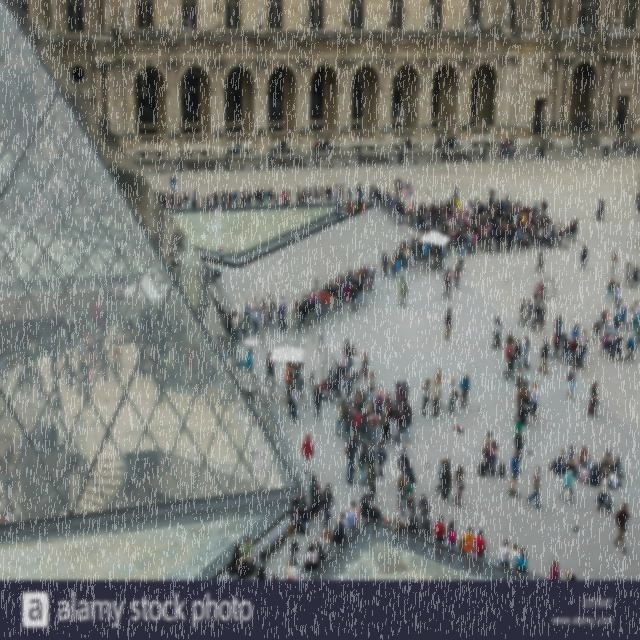pessoa: (0, 159, 89, 226), (431, 205, 533, 232), (89, 188, 130, 220), (234, 384, 266, 418), (614, 502, 630, 555), (398, 474, 416, 518), (290, 498, 310, 535), (526, 463, 542, 509), (320, 482, 335, 531), (596, 470, 612, 515), (242, 536, 258, 580), (594, 460, 610, 503), (308, 474, 322, 521), (558, 462, 574, 502), (344, 432, 356, 485), (498, 0, 515, 37), (294, 489, 310, 528), (286, 523, 300, 567), (458, 526, 476, 560), (232, 542, 248, 580), (374, 439, 388, 482), (365, 458, 378, 504), (296, 0, 312, 36), (301, 432, 314, 475), (568, 454, 592, 477), (453, 464, 466, 506), (253, 549, 270, 581), (510, 450, 522, 495), (488, 436, 501, 477), (518, 388, 532, 426), (338, 0, 353, 34), (366, 409, 379, 448), (442, 456, 453, 502), (304, 542, 320, 573), (435, 456, 447, 496), (482, 430, 494, 470), (288, 383, 300, 422), (392, 404, 403, 446), (530, 298, 544, 331), (380, 0, 394, 33), (253, 0, 267, 33), (448, 376, 460, 414), (502, 340, 514, 378), (537, 337, 549, 375), (219, 342, 238, 366), (514, 427, 525, 468), (529, 380, 540, 421), (433, 514, 448, 544), (458, 372, 470, 409), (586, 379, 598, 416), (566, 364, 578, 401), (461, 0, 474, 34), (264, 292, 276, 328), (378, 408, 390, 444), (397, 445, 410, 478), (504, 348, 517, 381), (344, 504, 359, 532), (422, 0, 434, 35), (356, 396, 372, 422), (264, 350, 276, 384), (338, 351, 349, 388), (334, 359, 344, 399), (341, 404, 351, 444), (430, 377, 440, 417), (473, 528, 487, 556), (403, 403, 413, 442), (446, 520, 458, 552), (512, 338, 524, 370), (399, 400, 409, 438), (421, 378, 431, 416), (312, 383, 322, 420), (335, 401, 345, 438), (331, 516, 345, 542), (419, 510, 432, 538), (352, 407, 361, 447), (433, 365, 442, 405), (560, 334, 572, 364), (567, 334, 579, 364), (578, 328, 590, 358), (628, 300, 640, 330), (277, 300, 288, 332), (552, 456, 568, 478), (346, 344, 356, 379), (376, 383, 386, 418), (384, 398, 394, 433), (514, 401, 524, 436), (516, 297, 528, 326), (522, 298, 534, 327), (624, 333, 636, 362), (119, 0, 130, 31), (242, 300, 252, 334), (393, 387, 403, 421), (515, 368, 525, 402), (550, 326, 560, 360), (360, 492, 373, 518), (498, 538, 510, 566), (508, 542, 520, 570), (588, 462, 602, 486), (600, 328, 612, 356), (611, 333, 623, 361), (605, 274, 617, 302), (294, 361, 305, 391), (350, 351, 360, 384), (577, 462, 592, 484), (442, 268, 452, 301), (574, 337, 584, 370), (166, 1, 177, 31), (296, 362, 305, 398), (286, 376, 294, 416), (367, 438, 377, 470), (613, 281, 623, 313), (398, 473, 406, 512), (592, 316, 604, 342), (408, 506, 419, 534), (327, 369, 336, 403), (284, 360, 292, 398), (361, 442, 368, 485), (238, 312, 248, 342), (556, 448, 568, 473), (491, 320, 501, 350), (212, 0, 222, 30), (346, 372, 354, 409), (230, 312, 239, 344), (358, 412, 366, 448), (372, 398, 380, 434), (516, 546, 528, 570), (521, 336, 530, 368), (318, 530, 329, 556), (548, 559, 561, 581), (358, 386, 368, 414), (578, 444, 592, 464), (444, 307, 452, 342), (452, 262, 462, 290), (600, 306, 610, 334), (332, 278, 340, 312), (355, 274, 363, 308), (364, 404, 372, 438), (400, 274, 408, 308), (218, 314, 227, 344), (349, 283, 358, 313), (578, 338, 587, 368), (607, 328, 616, 358), (619, 303, 629, 330), (626, 329, 636, 356), (382, 392, 396, 411), (304, 295, 312, 328), (405, 466, 417, 488), (358, 263, 367, 292), (314, 538, 324, 564), (340, 512, 350, 538), (391, 514, 404, 534), (361, 351, 368, 388), (353, 430, 359, 473), (309, 287, 317, 319), (317, 288, 325, 320), (556, 318, 564, 350), (594, 460, 610, 476), (606, 468, 618, 489), (535, 245, 544, 273), (630, 263, 640, 288), (418, 494, 429, 516), (224, 314, 232, 344), (356, 269, 364, 299), (366, 262, 374, 292), (365, 386, 373, 416), (400, 379, 410, 403), (286, 560, 298, 580), (616, 456, 626, 480), (602, 448, 614, 468), (538, 304, 546, 334), (632, 320, 640, 350), (632, 310, 640, 340), (567, 218, 576, 244), (334, 204, 346, 223), (325, 528, 333, 556), (532, 281, 540, 309), (612, 328, 620, 356), (580, 242, 588, 270), (496, 223, 504, 251), (399, 518, 410, 538), (566, 444, 576, 466), (457, 243, 465, 270), (492, 314, 500, 341), (233, 310, 240, 340), (324, 288, 331, 318), (326, 279, 333, 309), (353, 388, 360, 418), (605, 459, 616, 478), (398, 243, 406, 269), (522, 364, 530, 390), (538, 280, 546, 306), (624, 262, 632, 288), (396, 197, 404, 223), (480, 226, 488, 252), (343, 280, 351, 305), (506, 330, 516, 350), (562, 224, 570, 249), (285, 362, 294, 384), (381, 252, 388, 280), (610, 250, 617, 278), (301, 292, 307, 324), (613, 310, 621, 334), (613, 308, 621, 332), (594, 197, 602, 221), (414, 208, 422, 232), (548, 224, 556, 248), (518, 382, 528, 401), (354, 272, 361, 299), (556, 219, 563, 246), (537, 223, 544, 250), (486, 225, 493, 252), (260, 298, 266, 329), (395, 202, 403, 225), (461, 230, 468, 256), (338, 278, 344, 308), (410, 236, 416, 266), (432, 240, 438, 270), (396, 381, 406, 399), (376, 188, 384, 210), (408, 206, 416, 228), (245, 348, 252, 373), (339, 398, 346, 423), (296, 302, 302, 330), (348, 270, 354, 298), (445, 232, 452, 256), (397, 278, 403, 306), (409, 198, 416, 222), (544, 226, 551, 250), (524, 228, 532, 249), (471, 230, 478, 254), (368, 262, 374, 289), (393, 196, 399, 223), (496, 225, 502, 252), (352, 198, 361, 216), (170, 174, 177, 197), (368, 369, 376, 389), (314, 475, 322, 495), (370, 183, 378, 203), (322, 288, 328, 314), (557, 222, 563, 248), (516, 224, 522, 250), (506, 226, 512, 252), (466, 228, 472, 254), (183, 188, 190, 210), (400, 202, 407, 224), (494, 228, 501, 250), (571, 324, 580, 341), (342, 338, 350, 357), (350, 499, 360, 514), (540, 222, 546, 247), (355, 182, 362, 203), (396, 176, 403, 197), (228, 310, 234, 334), (280, 293, 288, 311), (404, 244, 410, 268), (368, 387, 377, 403), (555, 314, 563, 332), (388, 194, 394, 218), (540, 198, 548, 216), (572, 218, 578, 242), (552, 222, 558, 246), (530, 222, 536, 246), (456, 230, 462, 254), (418, 226, 430, 238), (252, 306, 257, 334), (437, 240, 442, 268), (167, 191, 174, 211), (240, 189, 247, 209), (284, 566, 294, 580), (396, 504, 403, 524), (318, 184, 324, 207), (324, 183, 330, 206), (374, 185, 380, 208), (412, 235, 417, 262), (418, 235, 423, 262), (598, 198, 604, 220), (534, 225, 540, 247), (403, 240, 408, 266), (337, 204, 345, 220), (347, 202, 355, 218), (156, 191, 162, 212), (203, 192, 210, 210), (636, 306, 640, 337), (415, 236, 420, 260), (152, 191, 158, 211), (191, 190, 197, 210), (212, 192, 218, 212), (220, 191, 226, 211), (232, 188, 238, 208), (238, 190, 244, 210), (253, 187, 259, 207), (296, 185, 302, 205), (338, 182, 344, 202), (566, 570, 578, 580), (635, 198, 640, 222), (421, 213, 427, 233), (538, 202, 544, 222), (544, 214, 550, 234), (518, 228, 524, 248), (486, 233, 492, 253), (477, 224, 482, 248), (473, 195, 485, 205), (391, 255, 396, 278), (302, 186, 308, 205), (346, 184, 352, 203), (350, 402, 358, 416), (636, 172, 640, 200), (183, 190, 188, 212), (176, 192, 182, 210), (260, 188, 266, 206), (274, 190, 280, 208), (328, 186, 334, 204), (508, 140, 514, 158), (512, 140, 518, 158), (602, 144, 608, 162), (408, 180, 414, 198), (422, 202, 428, 220), (430, 200, 436, 218), (457, 201, 463, 219), (490, 189, 496, 207), (454, 196, 461, 211), (268, 188, 274, 205), (334, 185, 340, 202), (612, 138, 618, 155), (384, 198, 390, 215), (424, 216, 430, 233), (488, 187, 494, 204), (504, 193, 510, 210), (516, 200, 522, 217), (334, 184, 339, 204), (382, 192, 387, 212), (428, 242, 433, 262), (433, 372, 440, 386), (164, 191, 170, 207), (226, 187, 230, 211), (498, 142, 504, 158), (619, 139, 625, 155), (392, 192, 398, 208), (448, 196, 454, 212), (630, 144, 638, 156), (548, 218, 553, 237), (197, 196, 204, 209), (171, 192, 176, 210), (264, 190, 269, 208), (367, 186, 372, 204), (440, 246, 444, 268), (281, 188, 286, 205), (468, 198, 473, 215), (252, 293, 259, 305), (329, 285, 336, 297), (394, 248, 401, 260), (308, 186, 312, 207), (232, 142, 238, 156), (236, 141, 242, 155), (406, 136, 412, 150), (438, 198, 444, 212), (512, 200, 518, 214), (524, 229, 528, 250), (208, 192, 212, 212), (214, 190, 218, 210), (222, 190, 226, 210), (228, 192, 233, 208), (314, 184, 318, 204), (447, 134, 452, 150), (403, 184, 408, 200), (406, 204, 410, 224), (420, 200, 424, 220), (427, 204, 432, 220), (453, 184, 458, 200), (606, 322, 612, 335), (246, 188, 250, 207), (364, 263, 369, 278), (209, 194, 214, 209), (437, 134, 442, 149), (336, 274, 342, 286), (257, 189, 261, 207), (284, 188, 288, 206), (282, 139, 288, 151), (314, 140, 320, 152), (506, 140, 510, 158), (511, 138, 515, 156), (562, 332, 568, 344), (394, 178, 398, 196), (160, 191, 165, 205), (279, 140, 284, 154), (404, 180, 409, 194), (396, 194, 401, 208), (248, 190, 252, 207), (340, 186, 344, 203), (340, 274, 346, 285), (288, 189, 292, 205), (499, 139, 503, 155), (512, 138, 516, 154), (306, 291, 312, 301), (423, 254, 428, 266), (417, 204, 422, 216), (433, 198, 438, 210), (324, 137, 329, 148), (506, 137, 512, 146), (360, 187, 364, 200), (253, 300, 258, 310), (346, 270, 351, 280), (451, 134, 456, 144), (495, 198, 500, 208), (534, 200, 539, 210), (294, 299, 298, 311), (350, 270, 356, 278), (320, 140, 324, 152), (322, 284, 327, 292), (503, 138, 507, 147), (386, 187, 390, 196), (272, 574, 277, 581), (361, 197, 364, 207), (637, 234, 640, 244), (400, 242, 403, 246)
